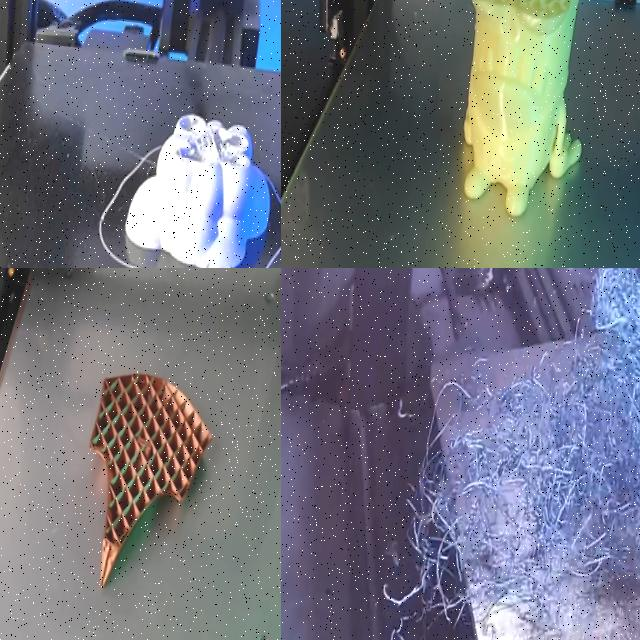spaghetti: (362, 268, 640, 640)
